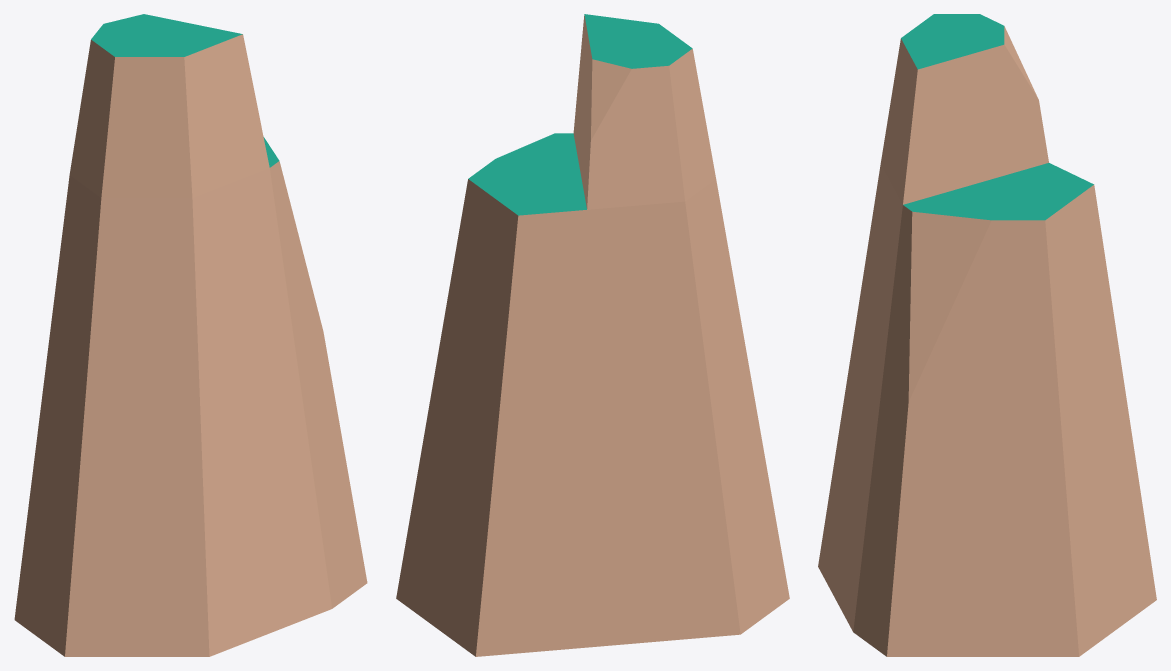
Rendered from rock_tallI.glb.
The picture shows the model from 3 angles, left to right: view 1: azimuth 30°, elevation 25°; view 2: azimuth 150°, elevation 25°; view 3: azimuth 270°, elevation 25°; orthographic projection. The views are drawn at different scales.
Visible parts, largest first — view 1: rock_tallI; view 2: rock_tallI; view 3: rock_tallI.
Boxes of the visible parts, box(x1,y1,x2,y2) form: rock_tallI: box(14, 14, 367, 656); rock_tallI: box(396, 14, 789, 656); rock_tallI: box(818, 14, 1156, 656).
Bounding box in the file's own units: 0.5299 × 0.943 × 0.5394.
